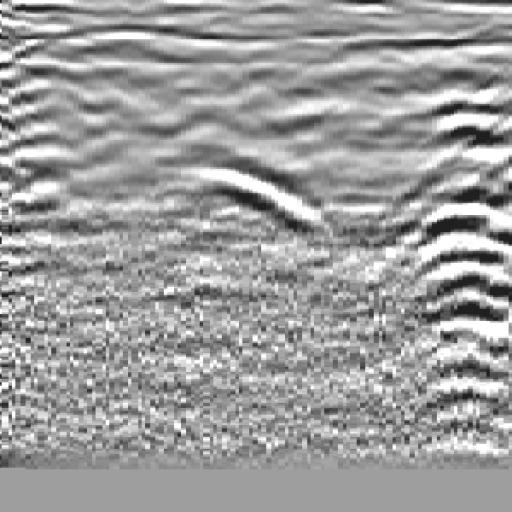metalic: (168, 139, 338, 256)
nonmetalic: (394, 65, 512, 310)
